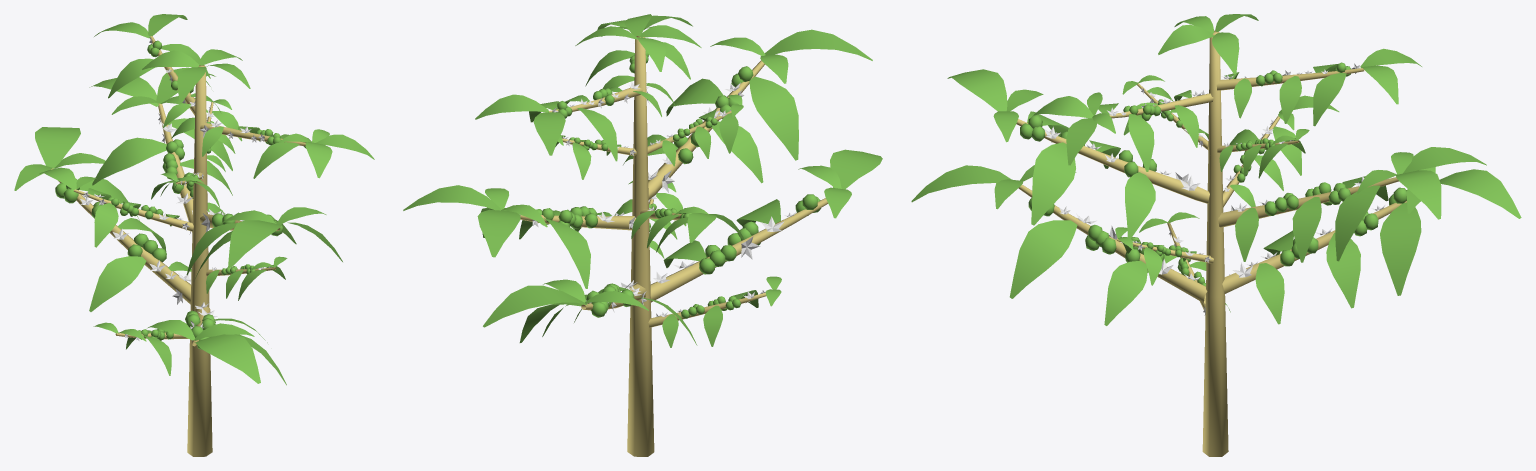
Rendered from model_verdecafe_01.fbx.
3 renders of one model, left to right at view 1: azimuth 30°, elevation 25°; view 2: azimuth 150°, elevation 25°; view 3: azimuth 270°, elevation 25°, orthographic. The views are drawn at different scales.
Parts seen in each view (by area): view 1: NurbsPath.001; view 2: NurbsPath.001; view 3: NurbsPath.001.
Part boxes in pixels (x1,y1,x2,y2): NurbsPath.001: (14,14,374,456); NurbsPath.001: (403,14,882,456); NurbsPath.001: (911,14,1521,456).
Bounding box in the file's own units: 0.3083 × 0.4909 × 0.6316.
